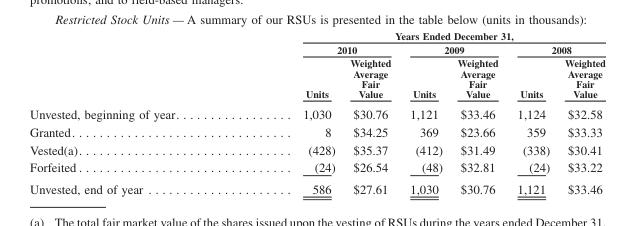table: (29, 29, 604, 195)
table column: (29, 29, 240, 195), (240, 29, 342, 195), (449, 29, 507, 195), (342, 29, 399, 195), (399, 29, 449, 195), (507, 29, 556, 195), (556, 29, 604, 195)
table column header: (29, 29, 604, 102)
table row: (29, 55, 604, 102), (29, 102, 604, 122), (29, 158, 604, 177), (29, 122, 604, 140), (29, 140, 604, 158), (29, 177, 604, 195), (29, 41, 604, 55), (29, 29, 604, 41)
table spanning cell: (240, 29, 604, 41), (240, 41, 399, 55), (399, 41, 507, 55), (507, 41, 604, 55)
